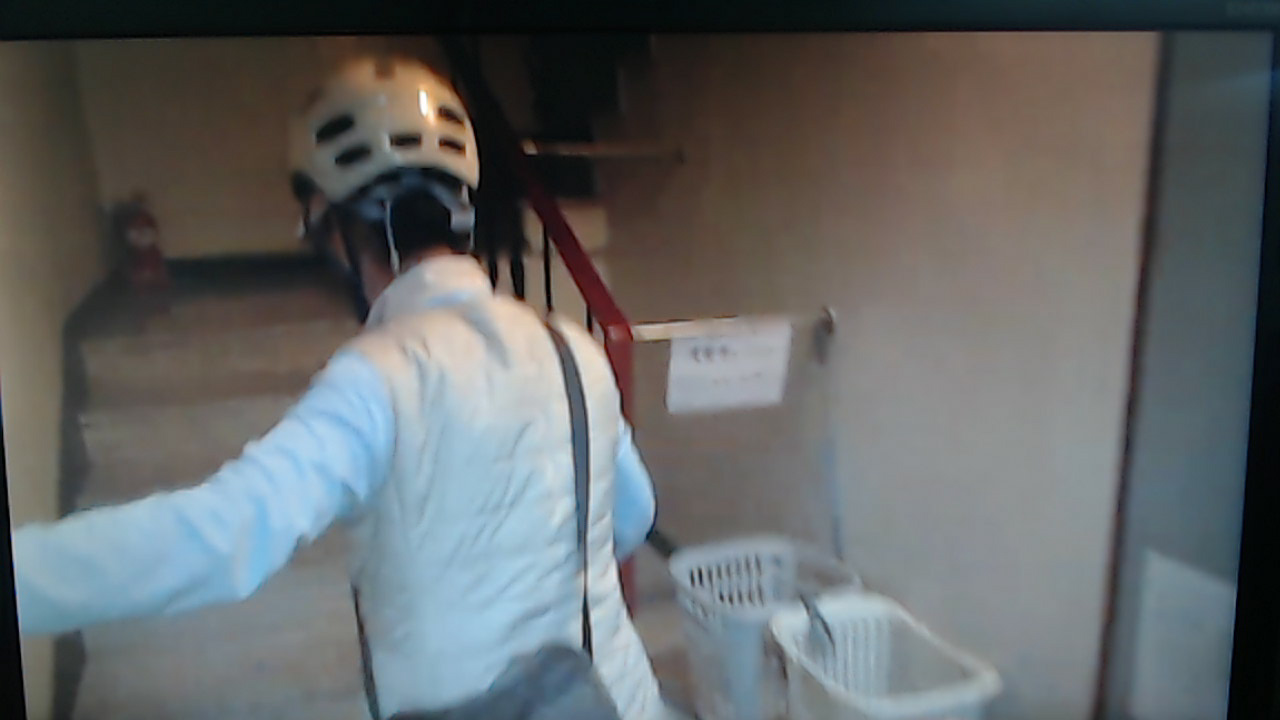Yakurut: (5, 44, 681, 720)
